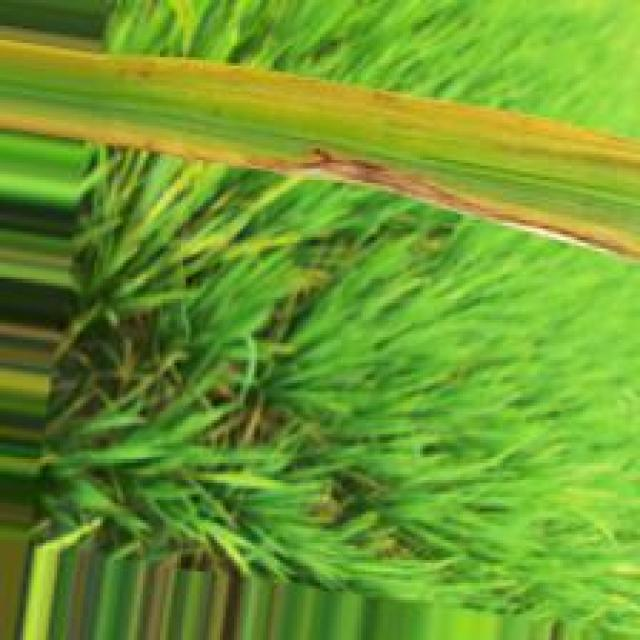Rice Tungro: (245, 144, 640, 262)
